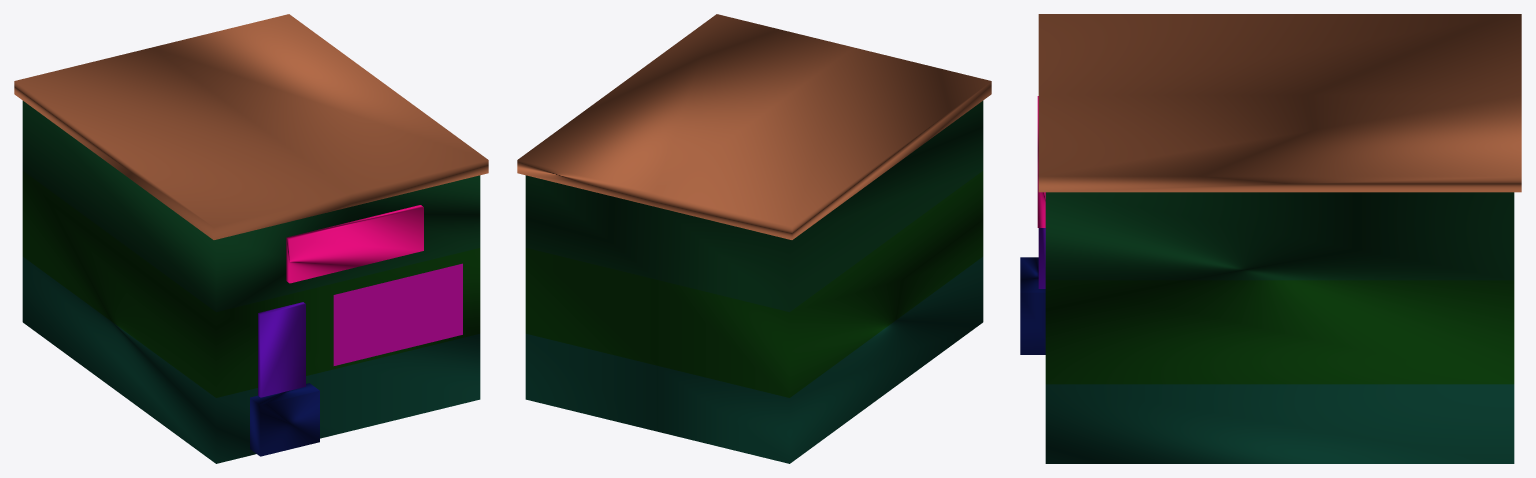
Rendered from Building4.fbx.
The picture shows the model from 3 angles, left to right: view 1: azimuth 30°, elevation 25°; view 2: azimuth 150°, elevation 25°; view 3: azimuth 270°, elevation 25°; orthographic projection. The views are drawn at different scales.
Parts seen in each view (by area): view 1: Cube.002; view 2: Cube.002; view 3: Cube.002.
Boxes of the visible parts, bbox=[...] form: Cube.002: bbox=[14, 14, 488, 463]; Cube.002: bbox=[517, 14, 991, 463]; Cube.002: bbox=[1020, 14, 1521, 463].
Size of the model in its own units: 1371 by 1145 by 1789.
